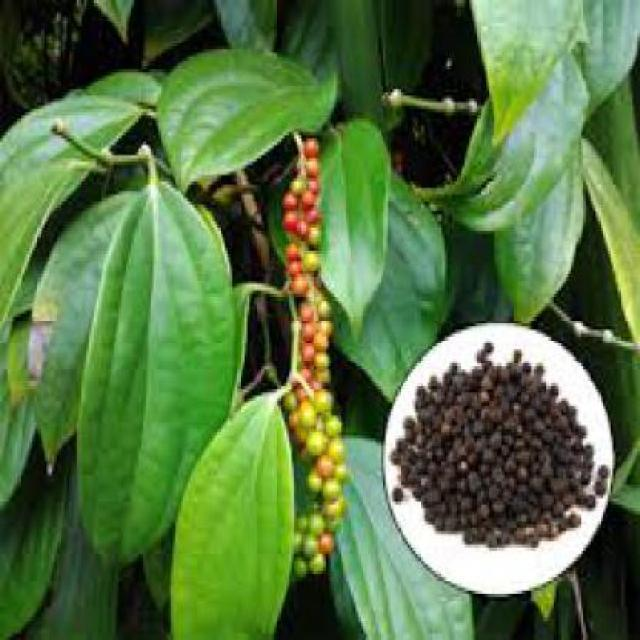RIPE: (280, 126, 342, 397)
